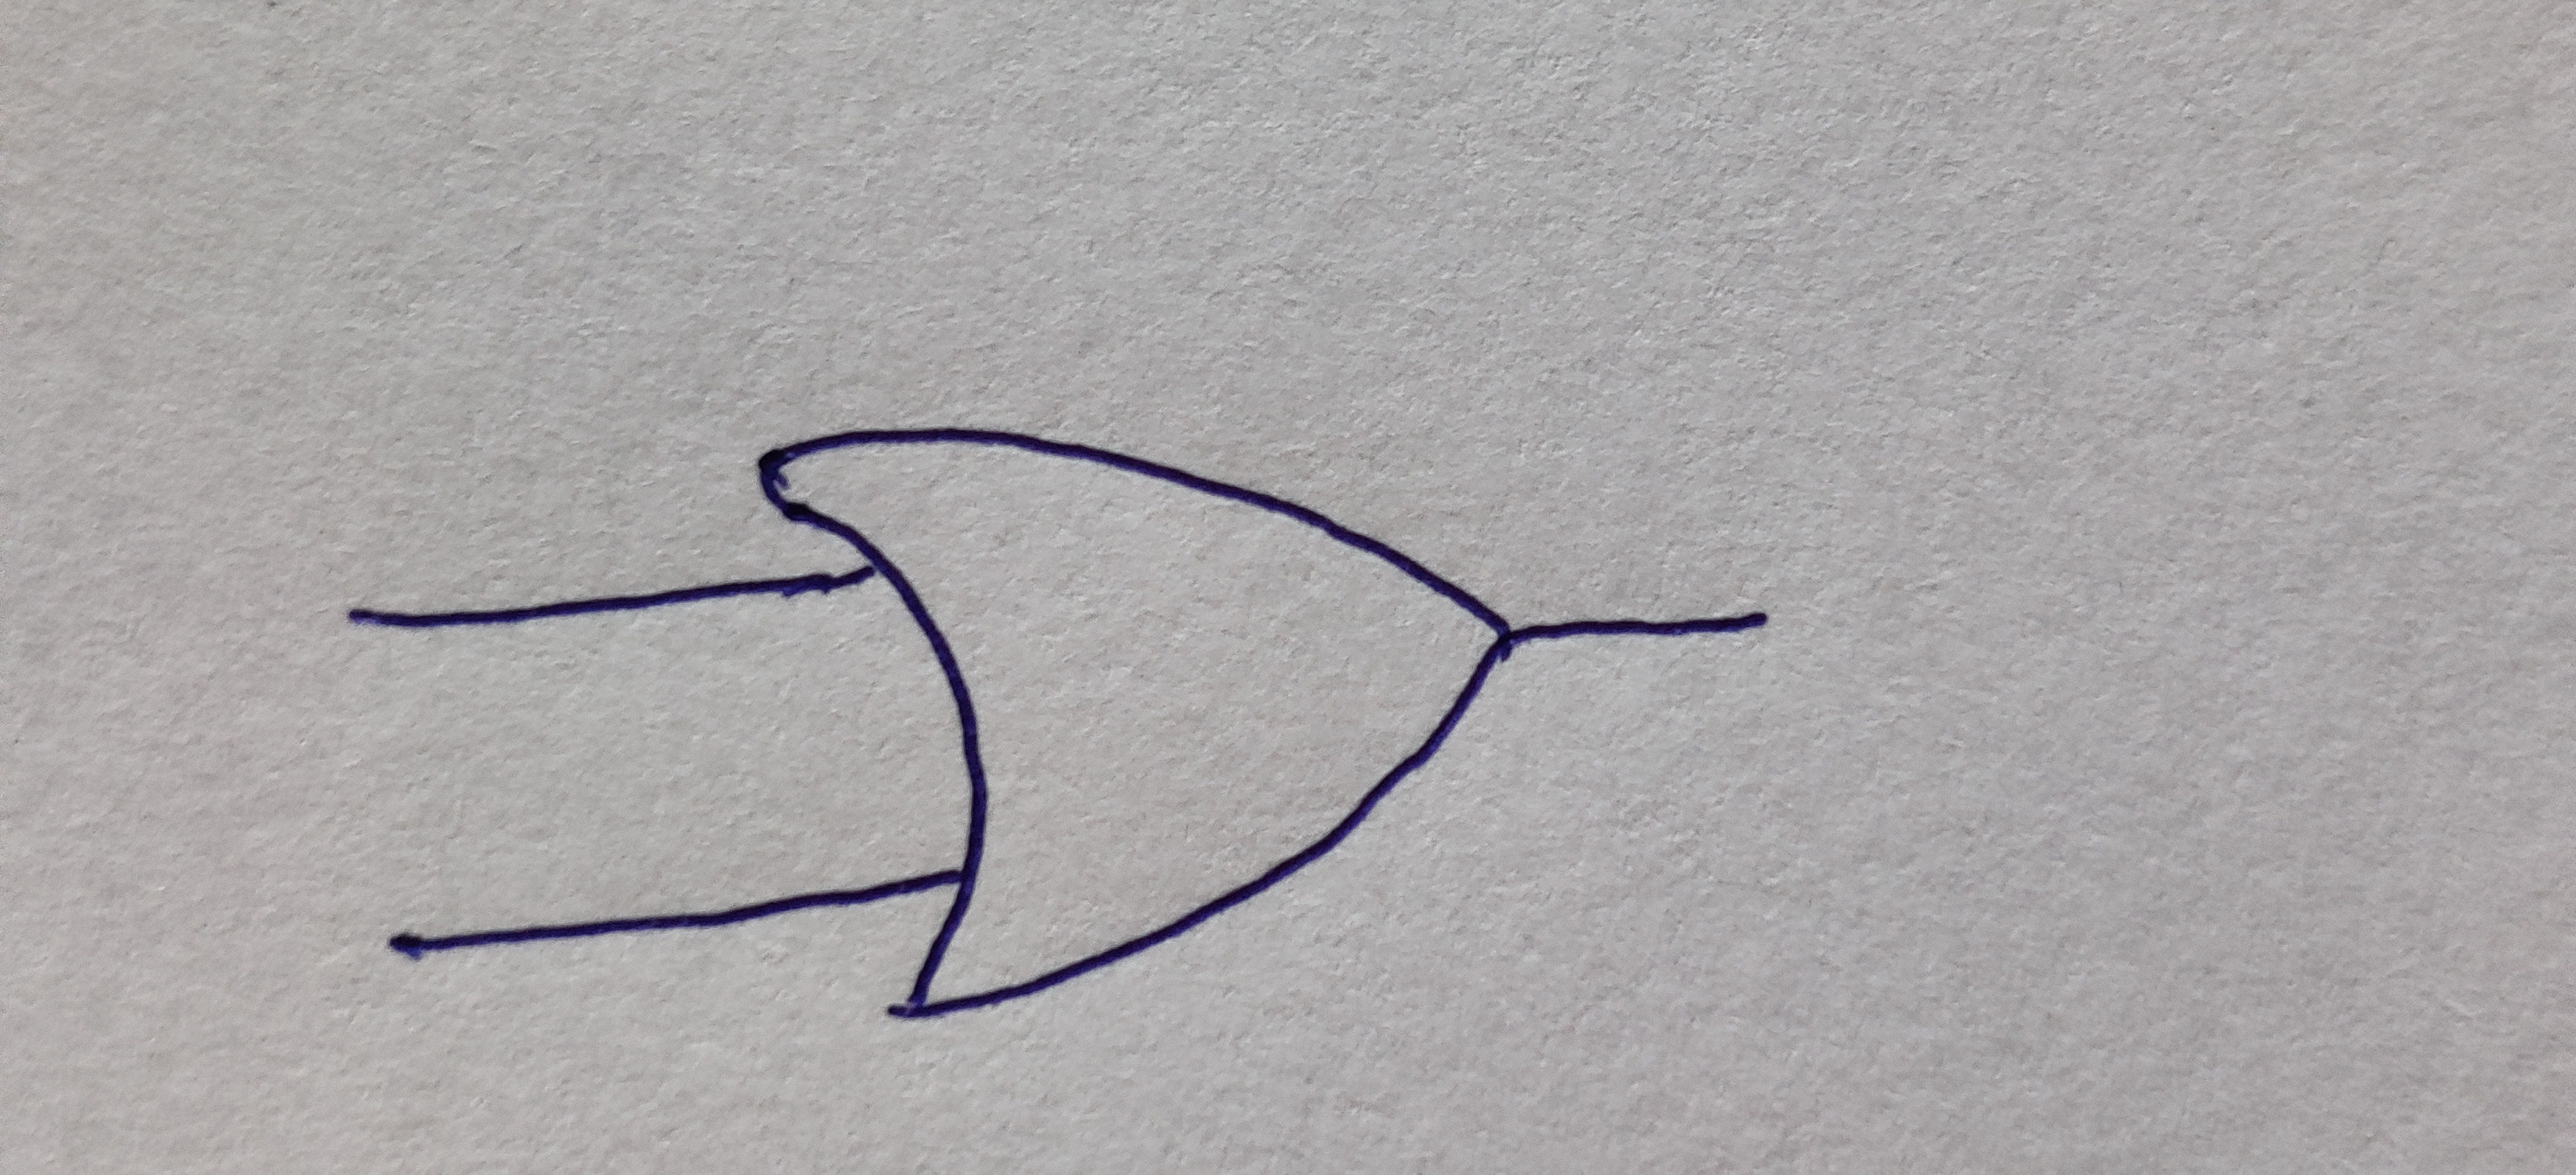or: (761, 427, 1508, 1017)
